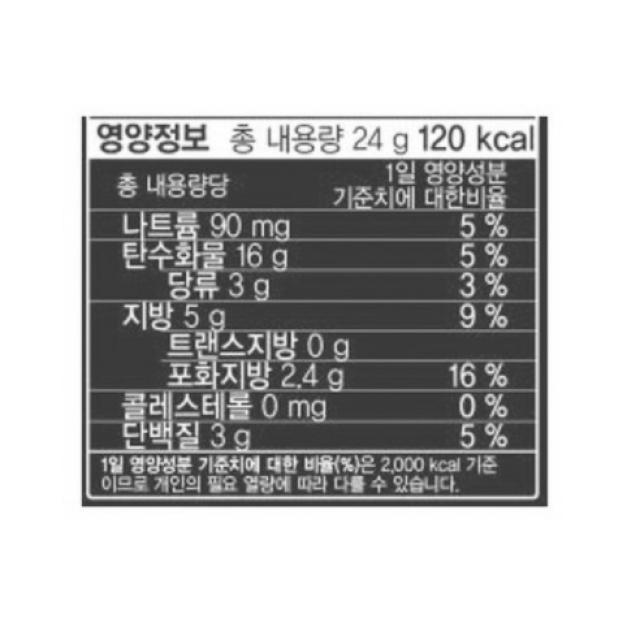Nutrition Label: (66, 103, 567, 527)
